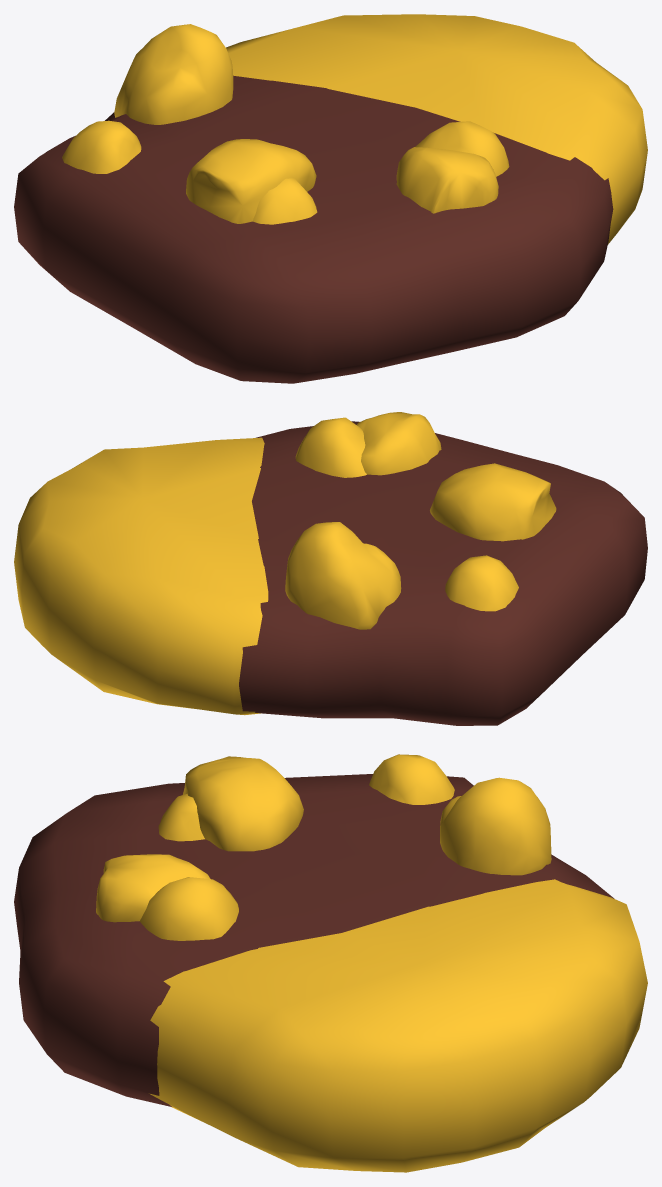
The model's file is GoldGemOre.fbx.
3 views of the same model, one above another, from view 1: azimuth 30°, elevation 25°; view 2: azimuth 150°, elevation 25°; view 3: azimuth 270°, elevation 25° (orthographic). The views are drawn at different scales.
Visible parts, largest first — view 1: Cube.116; view 2: Cube.116; view 3: Cube.116.
Part boxes in pixels (<box>): Cube.116: <box>14,14,647,383</box>; Cube.116: <box>14,412,647,725</box>; Cube.116: <box>14,754,647,1172</box>.
Size of the model in its own units: 2.07 by 0.7424 by 1.89.
Materials: 1 (1 with a texture image).
